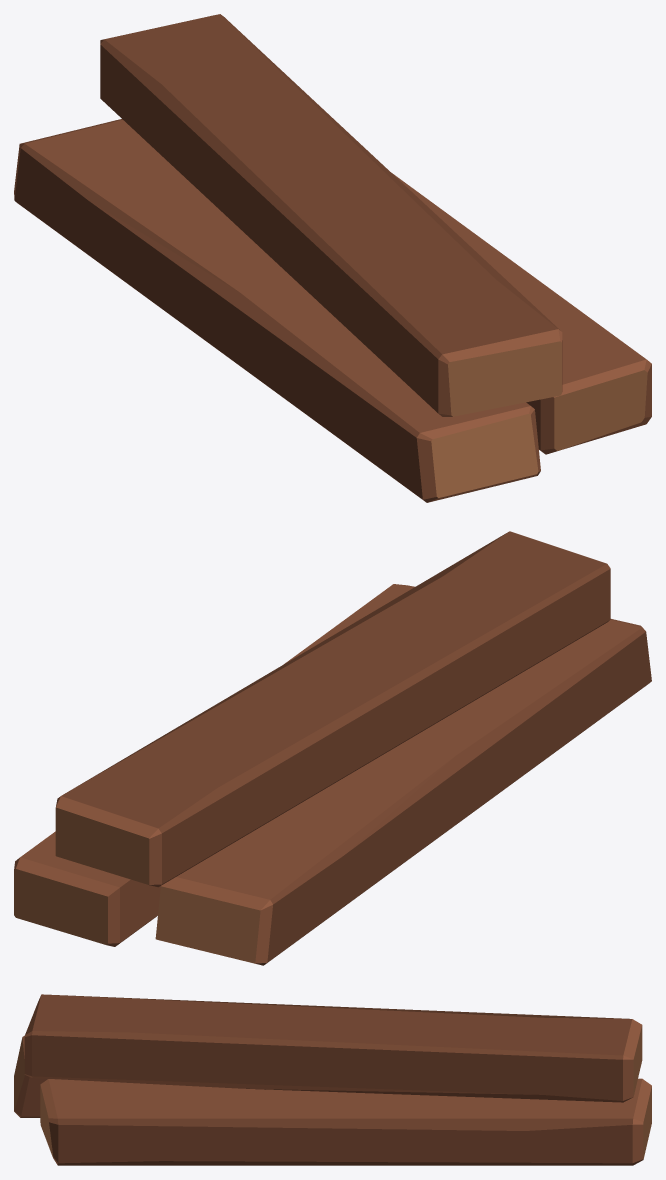
The model's file is planks_LOW.fbx.
3 views of the same model, one above another, from view 1: azimuth 30°, elevation 25°; view 2: azimuth 150°, elevation 25°; view 3: azimuth 270°, elevation 25° (orthographic). The views are drawn at different scales.
Parts seen in each view (by area): view 1: planks.001; view 2: planks.001; view 3: planks.001.
Part boxes in pixels (left/top/right/bottom): planks.001: left=14, top=14, right=651, bottom=502; planks.001: left=14, top=531, right=651, bottom=965; planks.001: left=14, top=994, right=651, bottom=1165.
Bounding box in the file's own units: 32.76 × 16.26 × 96.8.
